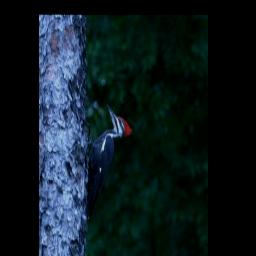Woodpecker: (84, 99, 131, 224)
